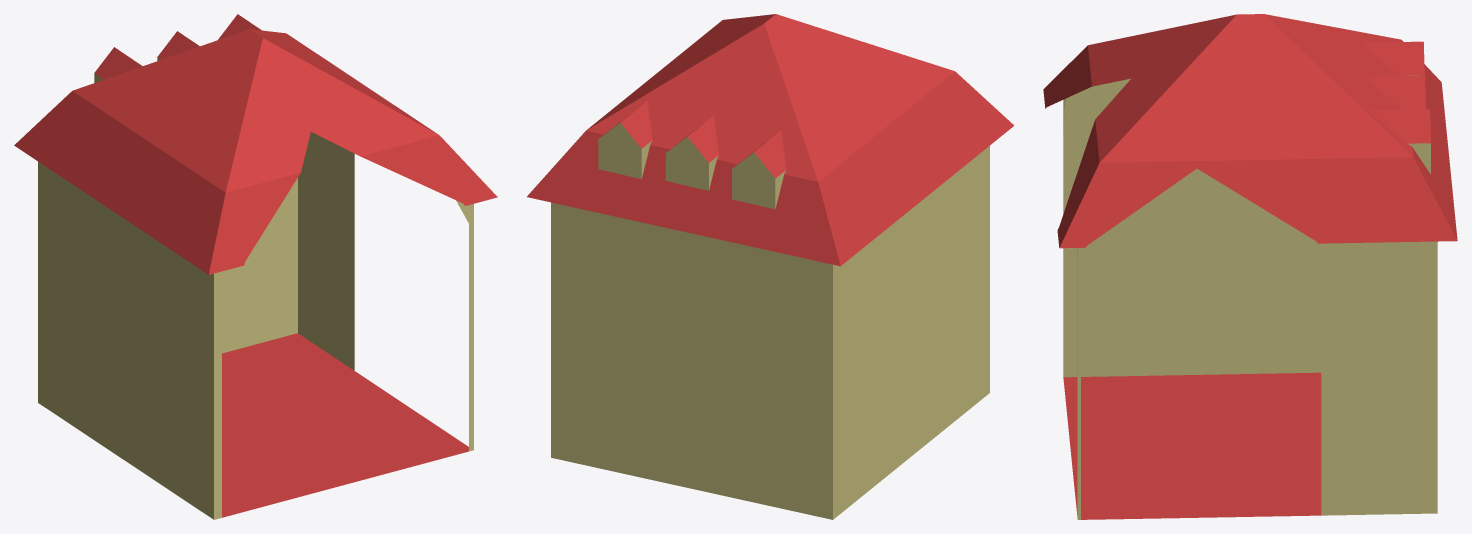
3 views of the same model, side by side, from view 1: azimuth 30°, elevation 25°; view 2: azimuth 150°, elevation 25°; view 3: azimuth 270°, elevation 25° (orthographic). The views are drawn at different scales.
Bounding box in the file's own units: 15.36 × 16.21 × 18.62.
